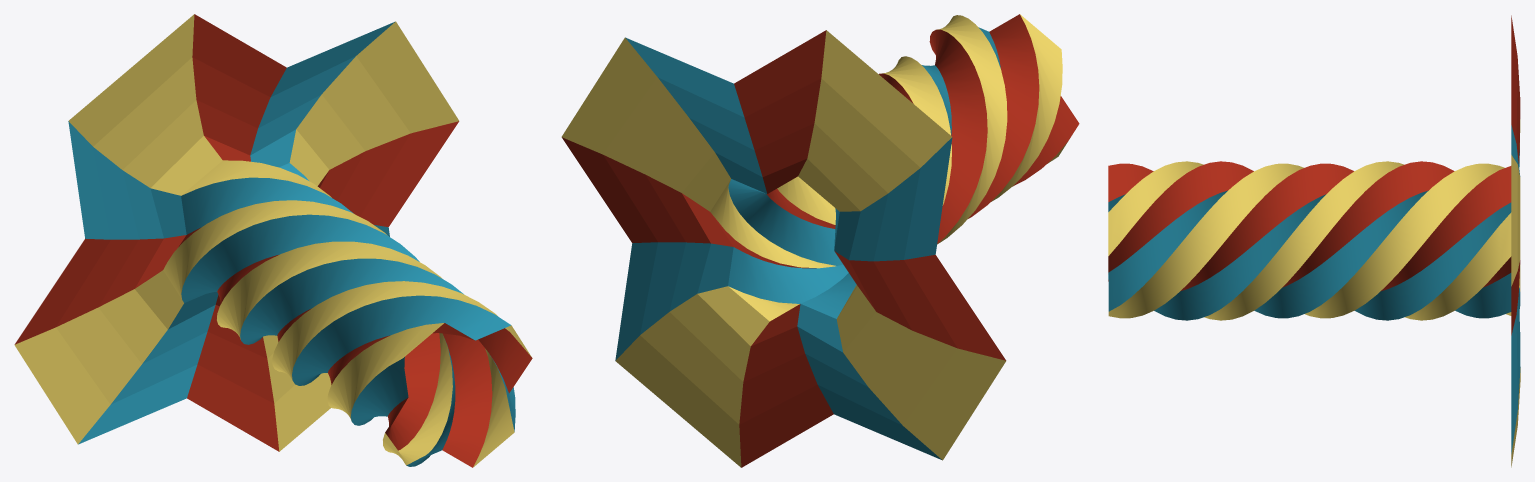
Rendered from spiral_entrance.FBX.
The picture shows the model from 3 angles, left to right: view 1: azimuth 30°, elevation 25°; view 2: azimuth 150°, elevation 25°; view 3: azimuth 270°, elevation 25°; orthographic projection. The views are drawn at different scales.
Visible parts, largest first — view 1: Object028; view 2: Object028; view 3: Object028.
Part boxes in pixels (<box>): Object028: <box>14,14,532,467</box>; Object028: <box>561,14,1079,467</box>; Object028: <box>1108,15,1520,467</box>.
Bounding box in the file's own units: 14824 × 14599 × 13093.
